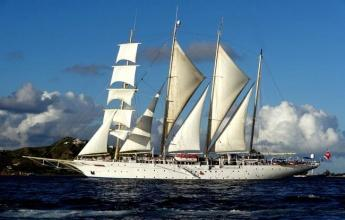fanchuan: (25, 25, 331, 179)
